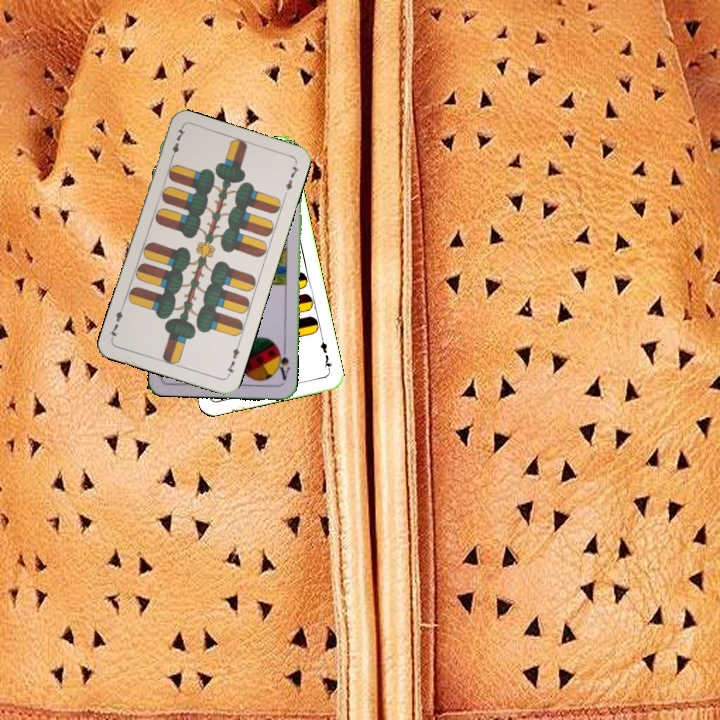E7: (167, 124, 188, 163), (223, 340, 242, 379), (316, 334, 334, 374)
SA: (273, 343, 292, 383)
